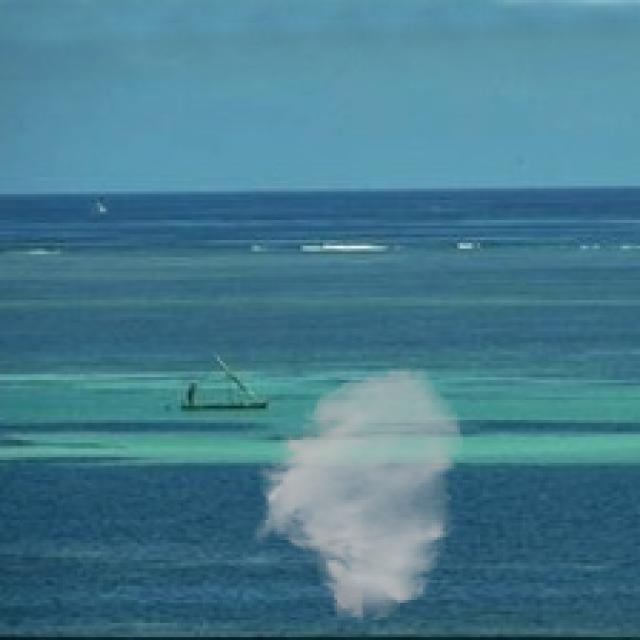smoke: (251, 363, 466, 623)
